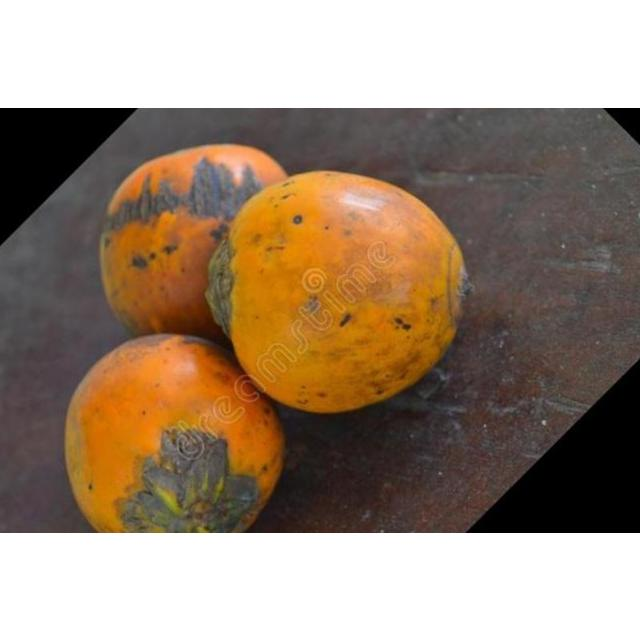good: (206, 172, 464, 412), (64, 334, 282, 530), (98, 142, 286, 344)
